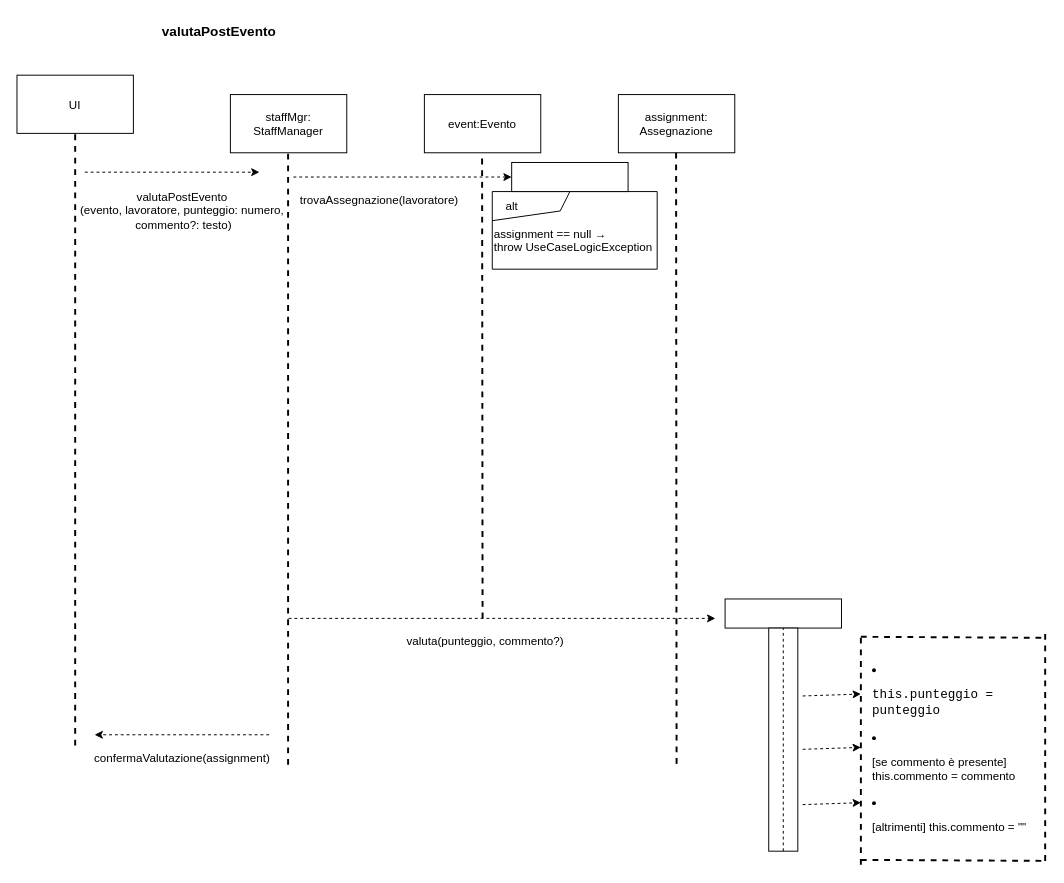
Image size: 1064x883. Some labels were removed from this diagram. The shapes that lost their labels are listed below. From the top down, each one's centre as x and y in pixels, then its label:
the point at 569,177: verifica
the point at 782,613: Create
